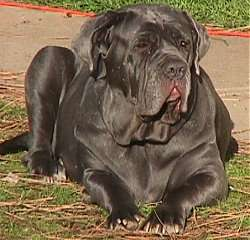neapolitan_mastiff: (0, 0, 231, 229)
